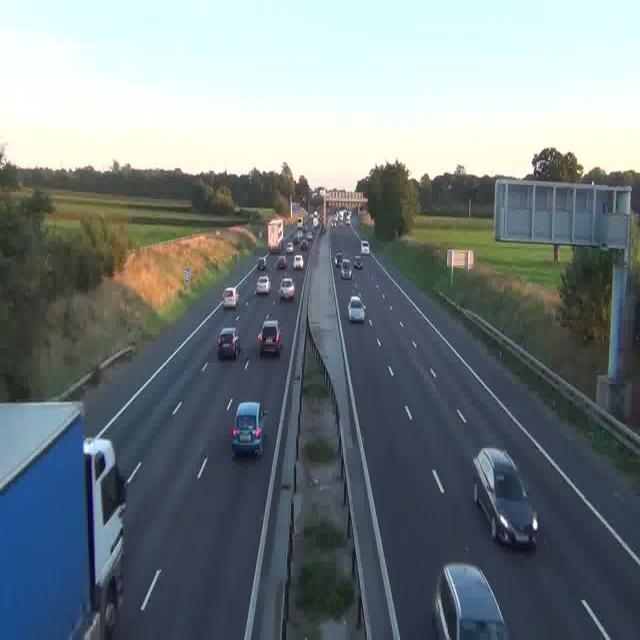bus: (268, 217, 284, 250)
car: (472, 447, 538, 549), (435, 563, 508, 640), (232, 402, 264, 456), (259, 320, 281, 355), (217, 327, 240, 360), (348, 295, 364, 322), (280, 278, 296, 300), (223, 288, 239, 309), (257, 275, 271, 294), (339, 260, 351, 278), (292, 255, 302, 270), (276, 254, 286, 268), (361, 242, 371, 256), (256, 257, 266, 270), (334, 252, 343, 266), (305, 235, 313, 246)
truck: (0, 402, 125, 639)
